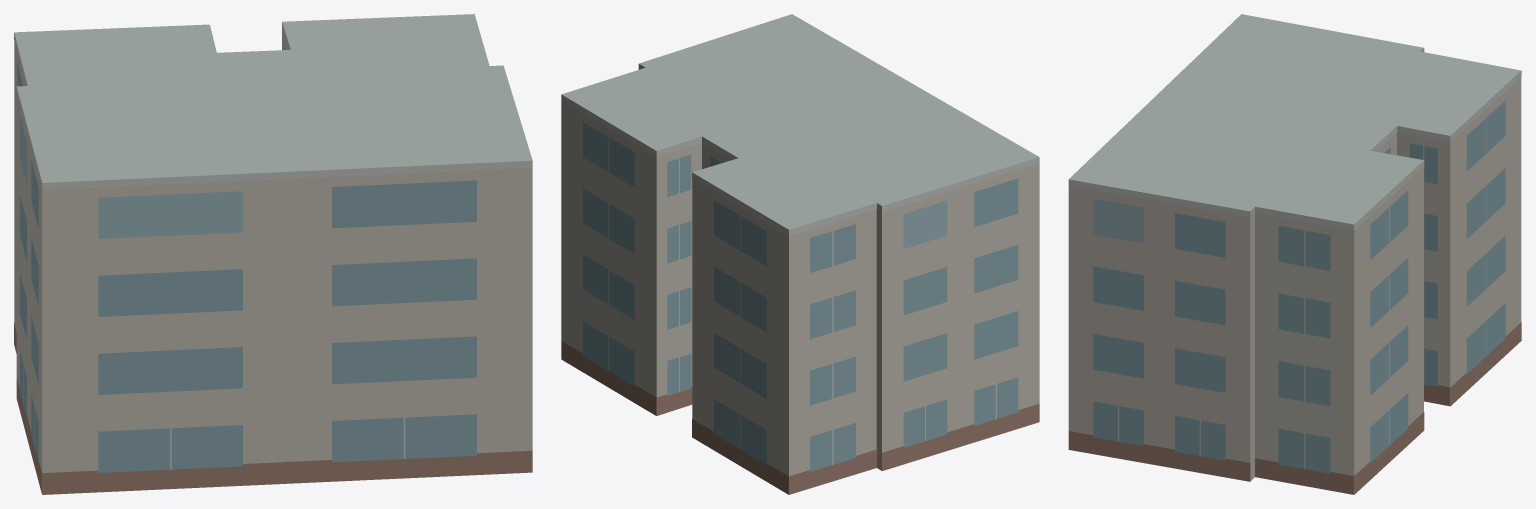
File: survey-upis-32656832.glb
3 views of the same model, side by side, from view 1: azimuth 30°, elevation 25°; view 2: azimuth 150°, elevation 25°; view 3: azimuth 270°, elevation 25° (orthographic). The views are drawn at different scales.
Visible parts, largest first — view 1: survey-upis-32656832.tmp; view 2: survey-upis-32656832.tmp; view 3: survey-upis-32656832.tmp.
Part boxes in pixels (x1,y1,x2,y2): survey-upis-32656832.tmp: (14,14,532,494); survey-upis-32656832.tmp: (561,14,1039,494); survey-upis-32656832.tmp: (1068,14,1521,494).
Size of the model in its own units: 17.37 by 10.4 by 15.79.
